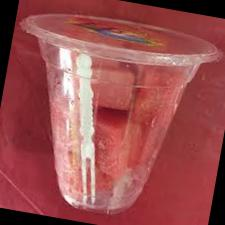Plastik: (0, 1, 218, 225)
